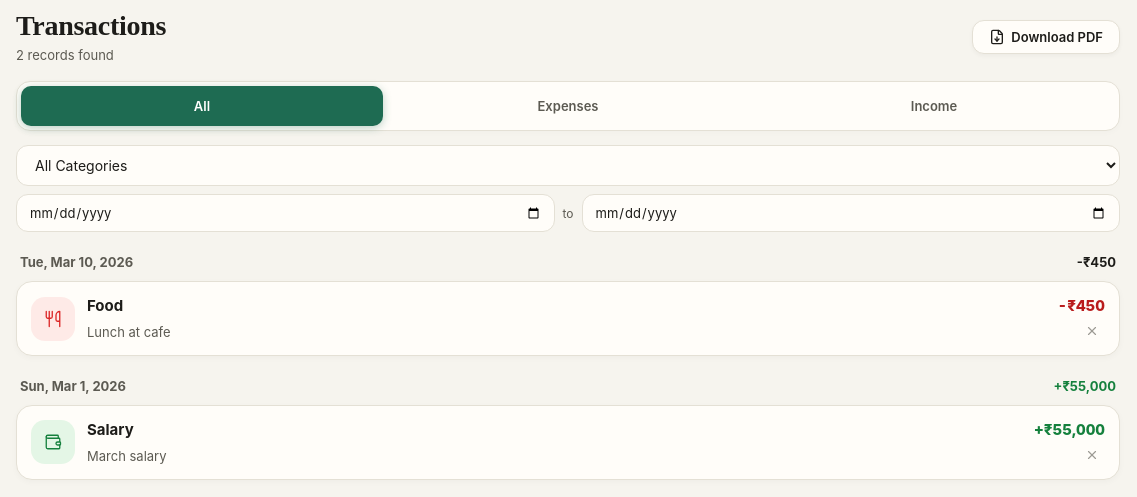
Test case: Expenses › asks for confirmation before deleting and refetches afterwards
The image size is (1137, 497).
Click the button named "Delete transaction" in the row of "Lunch at cafe". click: (1092, 333)
box: [1079,322,1105,343]
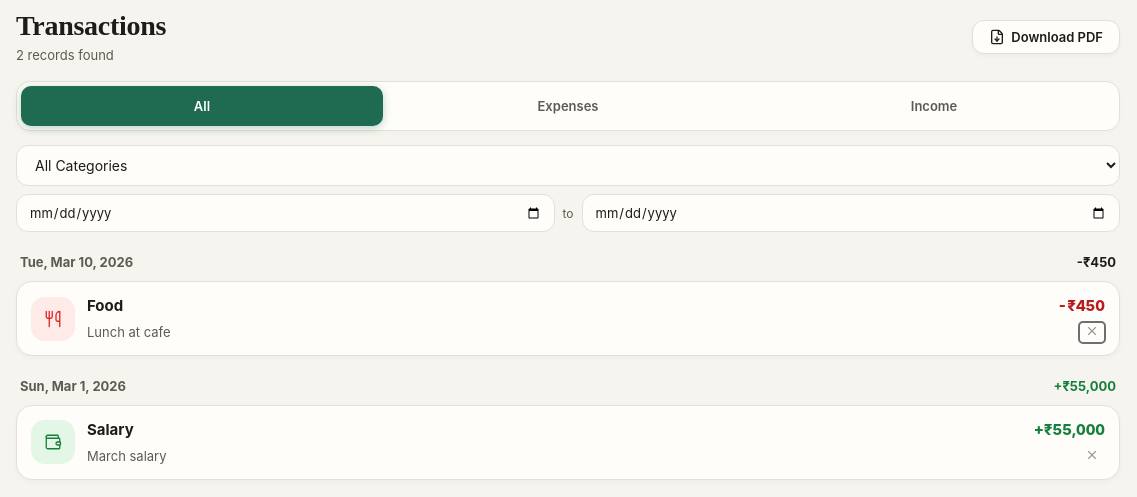
Click the button named "Delete transaction" in the row of "Lunch at cafe". click: (1092, 333)
box: [1079,322,1105,343]
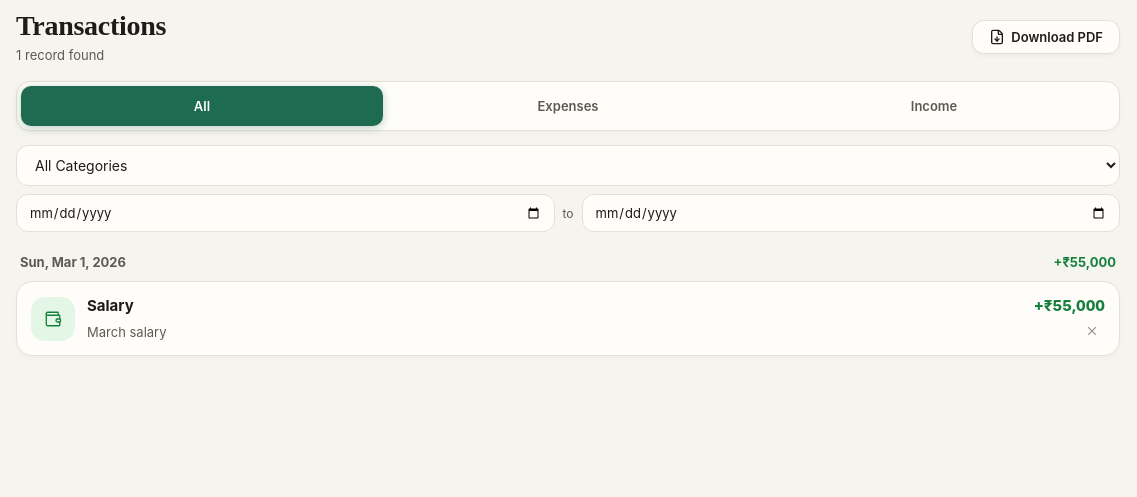
Check: the text "Lunch at cafe" is gone
